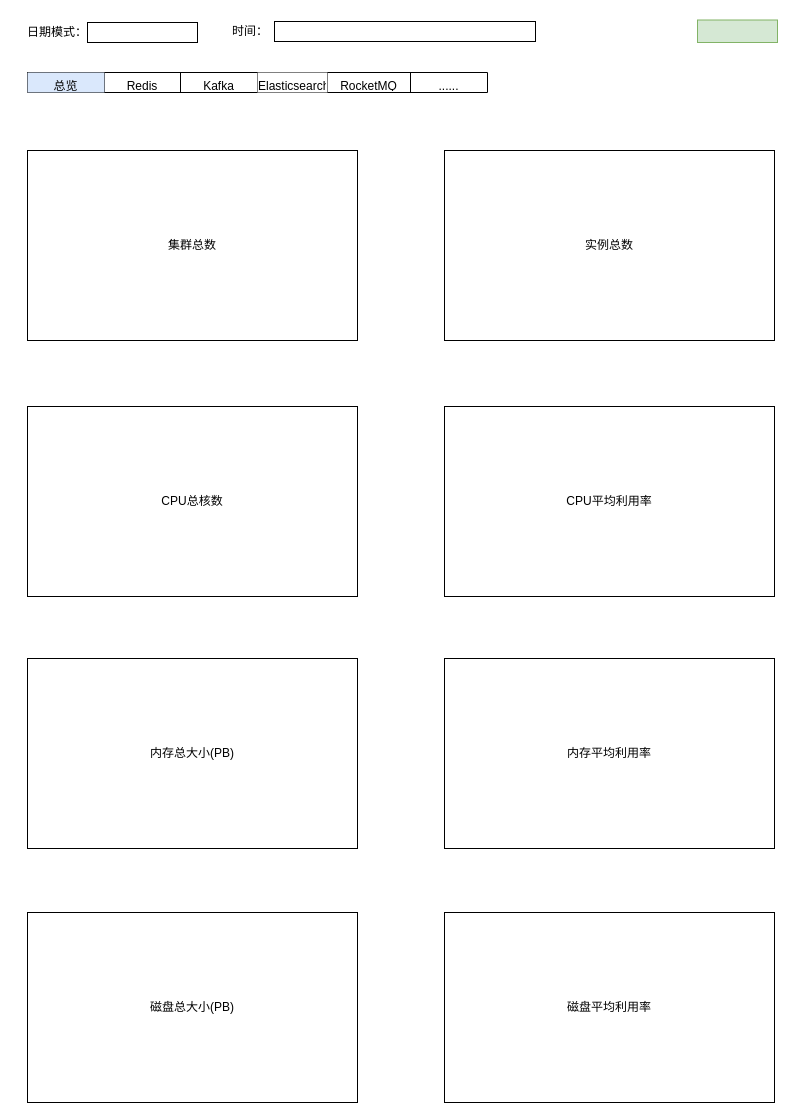
The diagram is 795 pixels wide and 1120 high, and some of its shapes have lost their labels. The box of each missing label's shape, as (x1, y1, x2, y2) in pixels:
按日/按月/按季: (86, 22, 198, 42)
最近一周/最近两周/本月/上个月/上上个月: (274, 20, 536, 42)
查询: (696, 19, 778, 42)
